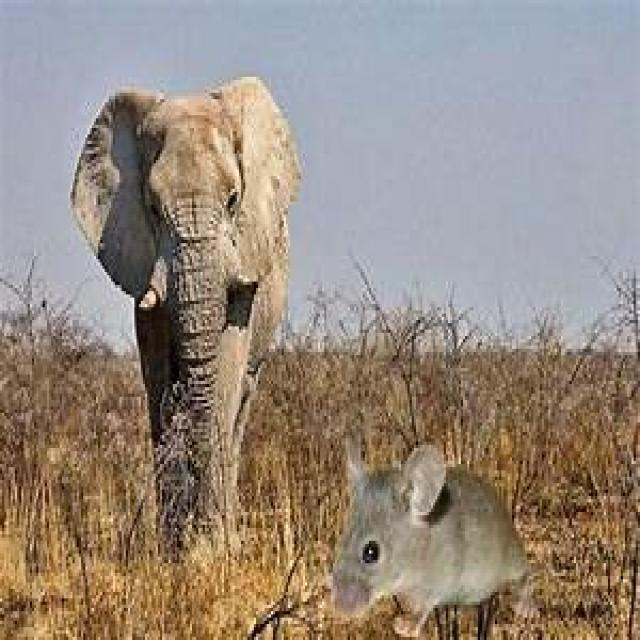elephant: (68, 77, 305, 560)
